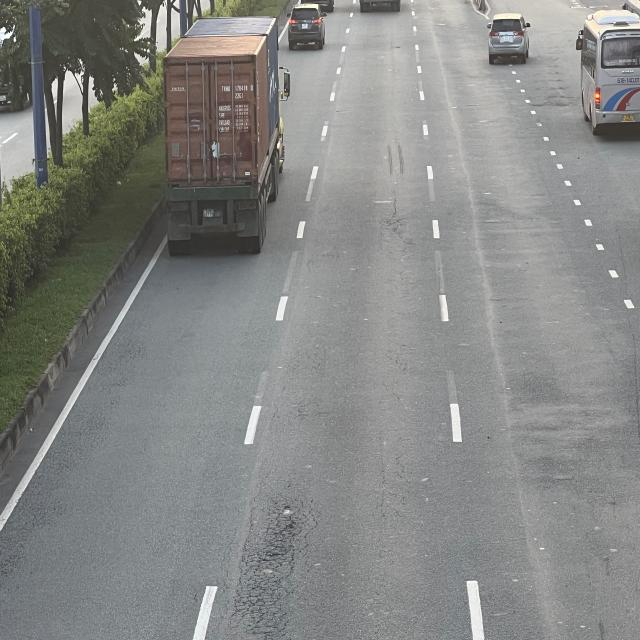car: (486, 11, 530, 63), (287, 5, 327, 50)
coach: (579, 12, 640, 136)
container: (165, 20, 293, 259)
